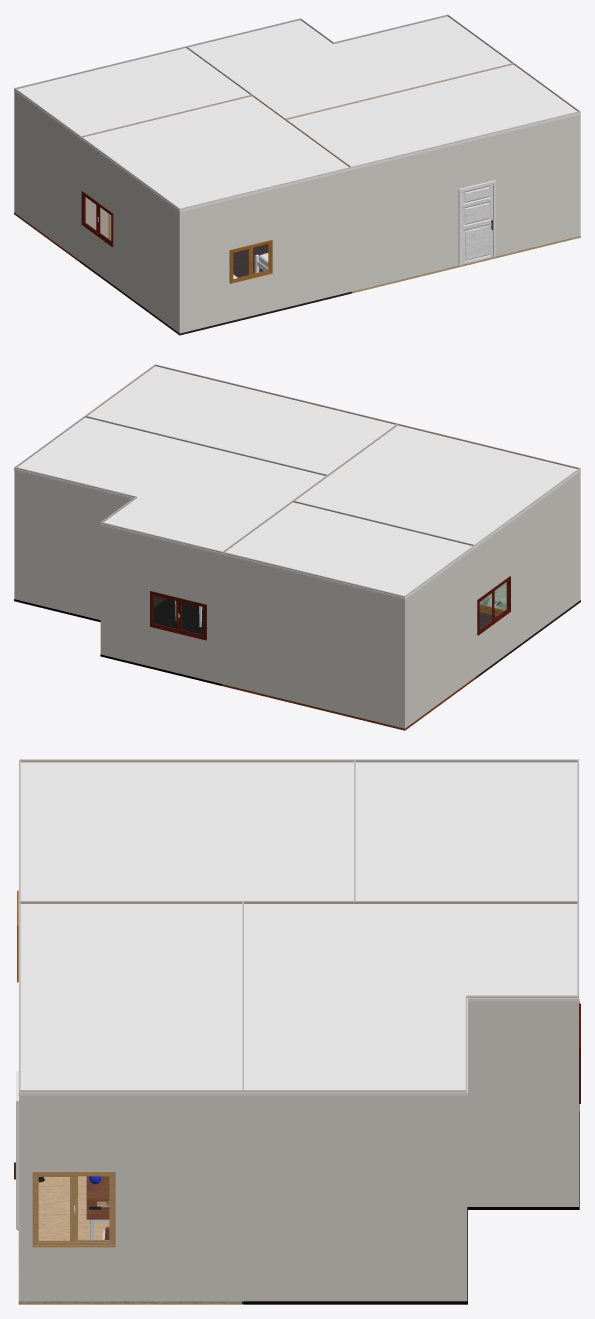
Rendered from ProcTHOR-Train-183.glb.
3 views of the same model, one above another, from view 1: azimuth 30°, elevation 25°; view 2: azimuth 150°, elevation 25°; view 3: azimuth 270°, elevation 25° (orthographic). The views are drawn at different scales.
Visible parts, largest first — view 1: WallInside#wall|exterior|0.00|9.84|6.56|9.84, WallInside#wall|exterior|6.56|9.84|11.48|9.84, Ceiling#room|6|c, Ceiling#room|4|c, Ceiling#room|7|c, WallInside#wall|exterior|11.48|4.92|11.48|9.84, Ceiling#room|5|c, WallInside#wall|exterior|11.48|1.64|11.48|4.92, Doorway_8, Floor#room|4|f, WallInside#wall|4|6.56|4.92|11.48|4.92, Window_Slider_48x36 (+3 smaller); view 2: WallInside#wall|exterior|6.56|1.64|11.48|1.64, Ceiling#room|6|c, Ceiling#room|4|c, Ceiling#room|7|c, WallInside#wall|exterior|3.28|1.64|6.56|1.64, Ceiling#room|5|c, WallInside#wall|exterior|11.48|4.92|11.48|9.84, WallInside#wall|exterior|0.00|3.28|3.28|3.28, WallInside#wall|exterior|11.48|1.64|11.48|4.92, Floor#room|6|f, Window_Slider_60x36 (×2), Floor#room|5|f (+3 smaller); view 3: Ceiling#room|6|c, WallInside#wall|exterior|0.00|3.28|0.00|6.56, Ceiling#room|4|c, Ceiling#room|7|c, WallInside#wall|exterior|0.00|6.56|0.00|9.84, Ceiling#room|5|c, WallInside#wall|exterior|3.28|1.64|3.28|3.28, Floor#room|7|f, Window_Slider_48x48, Floor#room|6|f, WallInside#wall|4|11.48|4.92|11.48|9.84, Dining_Table_223_1 (+1 smaller).
Part boxes in pixels (box(x1,y1,x2,y2)): WallInside#wall|exterior|0.00|9.84|6.56|9.84: box(351, 111, 580, 291); WallInside#wall|exterior|6.56|9.84|11.48|9.84: box(180, 167, 351, 333); Ceiling#room|6|c: box(186, 16, 511, 118); Ceiling#room|4|c: box(80, 96, 352, 212); Ceiling#room|7|c: box(288, 64, 580, 170); WallInside#wall|exterior|11.48|4.92|11.48|9.84: box(80, 136, 179, 333); Ceiling#room|5|c: box(14, 48, 249, 138); WallInside#wall|exterior|11.48|1.64|11.48|4.92: box(14, 88, 80, 260); Doorway_8: box(458, 180, 495, 265); Floor#room|4|f: box(80, 244, 352, 335); WallInside#wall|4|6.56|4.92|11.48|4.92: box(82, 94, 252, 238); Window_Slider_48x36: box(229, 240, 272, 283); WallInside#wall|exterior|6.56|1.64|11.48|1.64: box(222, 552, 404, 728); Ceiling#room|6|c: box(14, 417, 325, 555); Ceiling#room|4|c: box(293, 425, 580, 547); Ceiling#room|7|c: box(88, 366, 396, 474); WallInside#wall|exterior|3.28|1.64|6.56|1.64: box(100, 522, 222, 683); Ceiling#room|5|c: box(221, 502, 475, 599); WallInside#wall|exterior|11.48|4.92|11.48|9.84: box(475, 468, 580, 676); WallInside#wall|exterior|0.00|3.28|3.28|3.28: box(14, 467, 135, 619); WallInside#wall|exterior|11.48|1.64|11.48|4.92: box(405, 545, 474, 728); Floor#room|6|f: box(14, 598, 222, 685); Window_Slider_60x36 (×2): box(150, 576, 510, 640); Floor#room|5|f: box(221, 677, 475, 730); Ceiling#room|6|c: box(242, 903, 579, 1095); WallInside#wall|exterior|0.00|3.28|0.00|6.56: box(242, 1090, 467, 1301); Ceiling#room|4|c: box(18, 761, 356, 903); Ceiling#room|7|c: box(18, 904, 244, 1095); WallInside#wall|exterior|0.00|6.56|0.00|9.84: box(19, 1090, 243, 1301); Ceiling#room|5|c: box(355, 761, 579, 903); WallInside#wall|exterior|3.28|1.64|3.28|3.28: box(467, 995, 578, 1206); Floor#room|7|f: box(18, 1176, 243, 1304); Window_Slider_48x48: box(32, 1171, 115, 1247); Floor#room|6|f: box(242, 1111, 579, 1304); WallInside#wall|4|11.48|4.92|11.48|9.84: box(20, 759, 355, 762); Dining_Table_223_1: box(86, 1176, 109, 1239).
Size of what is drawn, in the model's own units: 11.57 by 3.47 by 8.33.
Materials: 281 (103 with a texture image).
